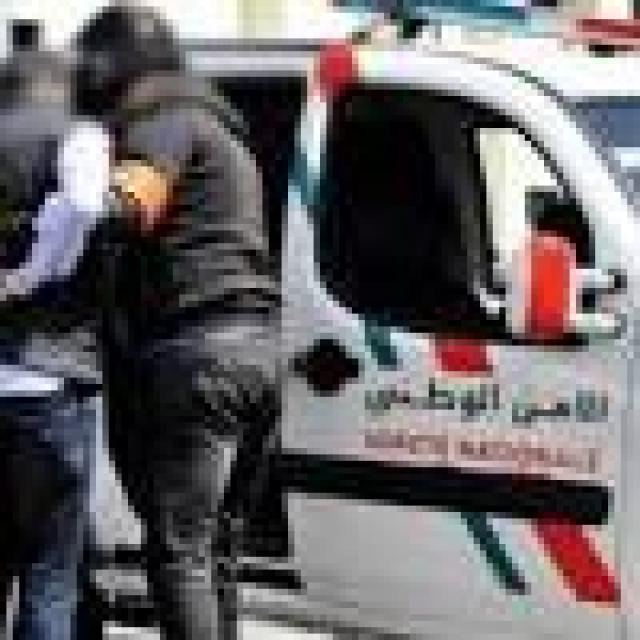police: (160, 13, 640, 640)
